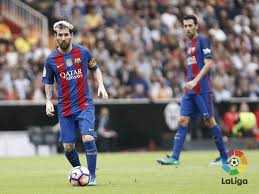barcelona: (34, 19, 116, 188), (161, 14, 234, 169)
